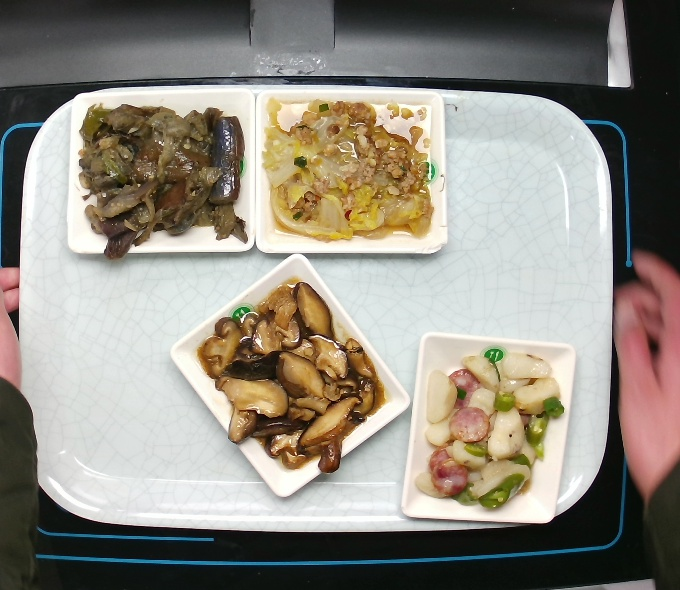wcq-MaTiGuo: (410, 346, 567, 512)
wcq-MoGu: (196, 277, 384, 476)
wcq-QieZi: (75, 100, 251, 262)
wcq-RouMoBaiCai: (258, 90, 437, 246)
